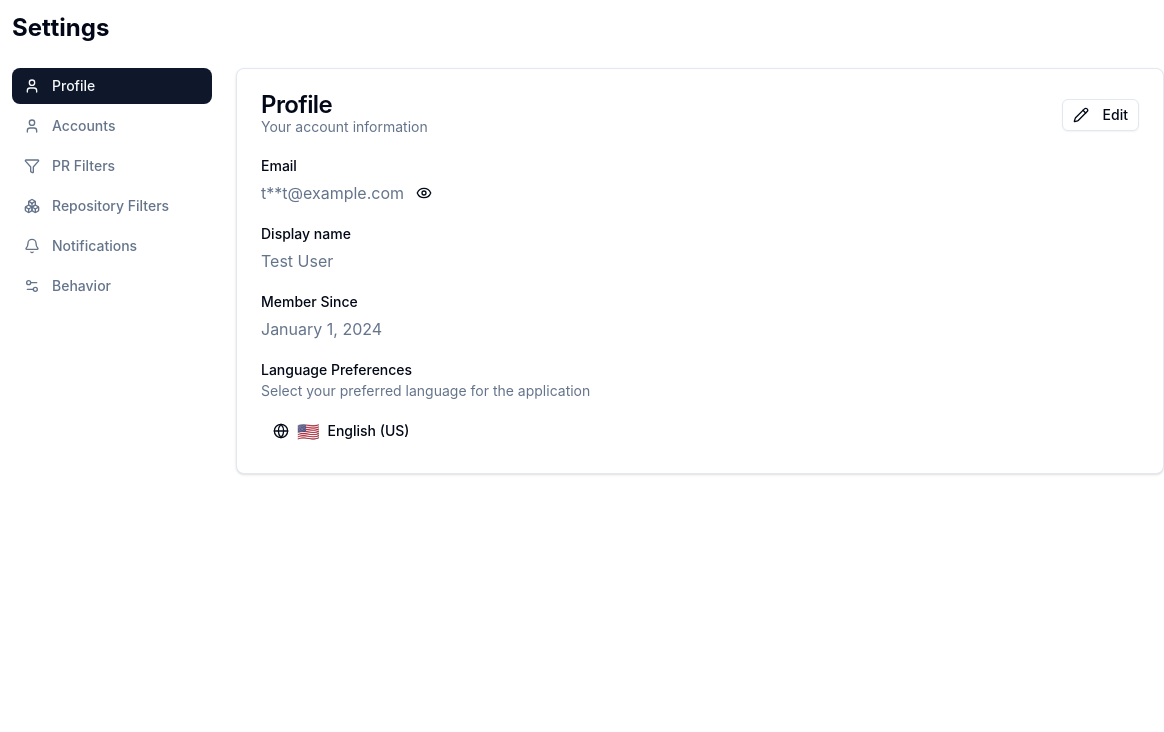
Test: Settings › Profile Settings › enters edit mode when edit button is clicked
The image size is (1164, 732).
Click the button "Edit". click: (1100, 115)
box: x1=1062 y1=99 x2=1139 y2=131
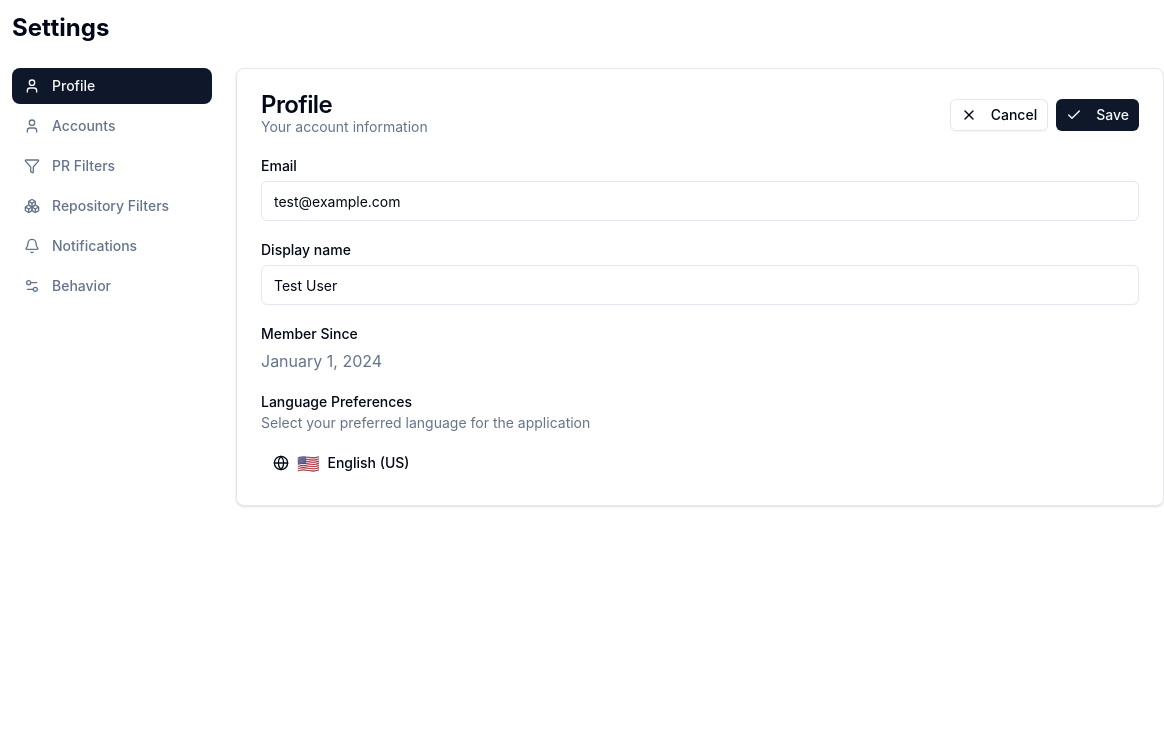
Expected: the field with placeholder "Enter your email" below "Email" is shown, x1=261 y1=181 x2=1139 y2=221
Expected: the field with placeholder "Enter your display name" below "Display name" is shown, x1=261 y1=265 x2=1139 y2=305
Expected: the button "Save" is shown, x1=1056 y1=99 x2=1139 y2=131
